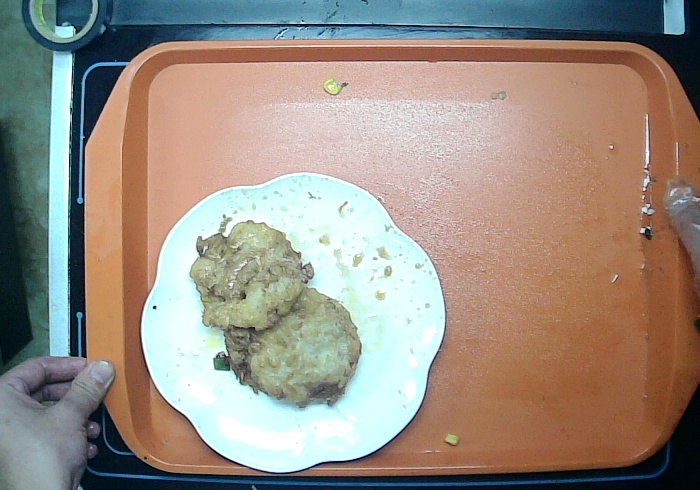HZYJPL-Bai_Se_Hua_Duo_Wan: (119, 145, 460, 485)
